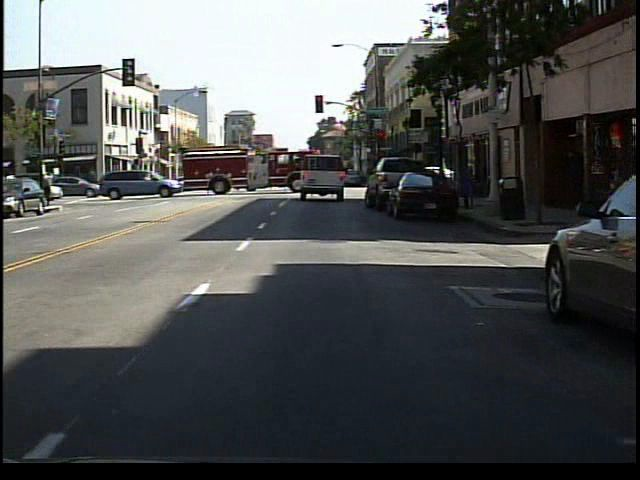person: (40, 169, 58, 209)
